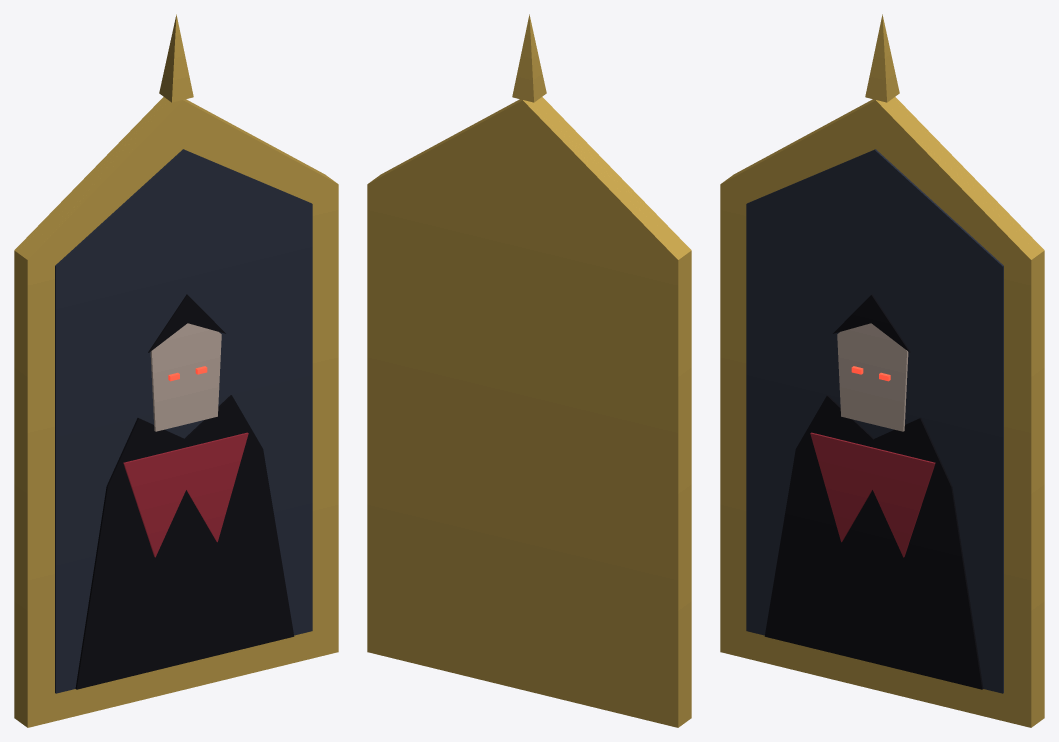
Rendered from catedral-portrait.glb.
3 renders of one model, left to right at view 1: azimuth 30°, elevation 25°; view 2: azimuth 150°, elevation 25°; view 3: azimuth 330°, elevation 25°, orthographic.
Parts seen in each view (by area): view 1: portrait; view 2: portrait; view 3: portrait.
Boxes of the visible parts, x1,y1,x2,y2 form: portrait: [14, 14, 338, 727]; portrait: [367, 14, 691, 727]; portrait: [720, 14, 1044, 727].
Size of the model in its own units: 0.8 by 1.65 by 0.085.
Materials: 1 (1 with a texture image).
